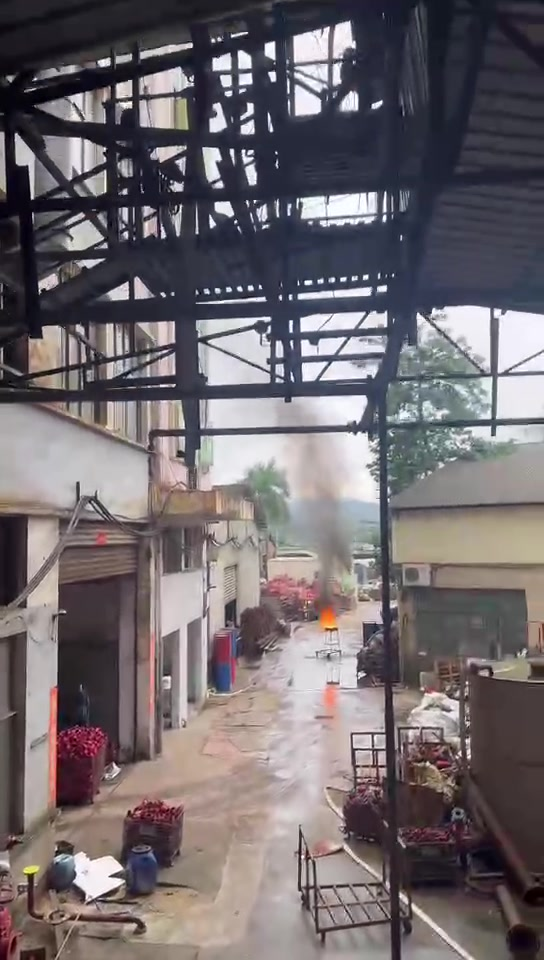fire: (321, 606, 337, 628)
